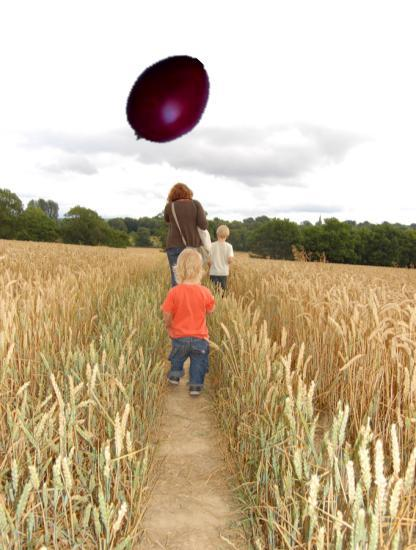Tamarillo: (115, 49, 219, 153)
